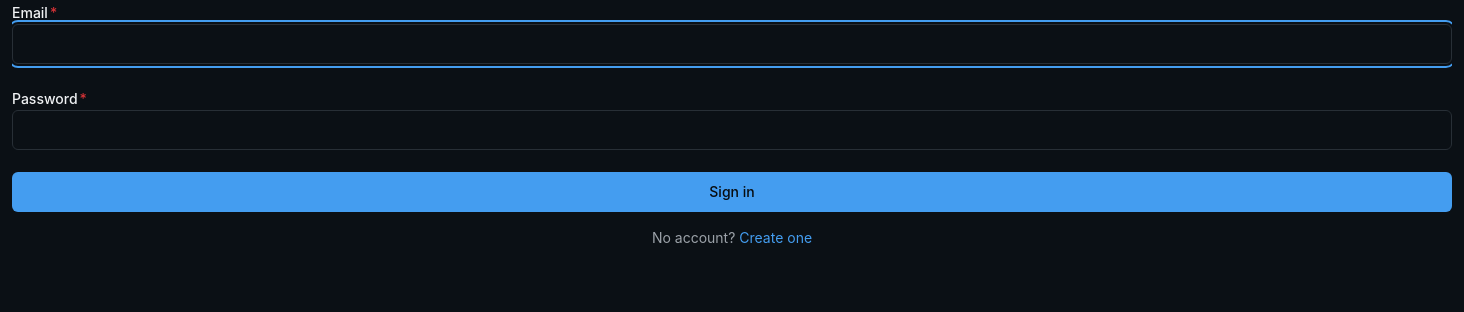
it: LoginForm › surfaces rate limiting rather than looking broken
In the field labelled "Email*": (732, 44) 12,24 -> 1452,64, type "asha@example.com"
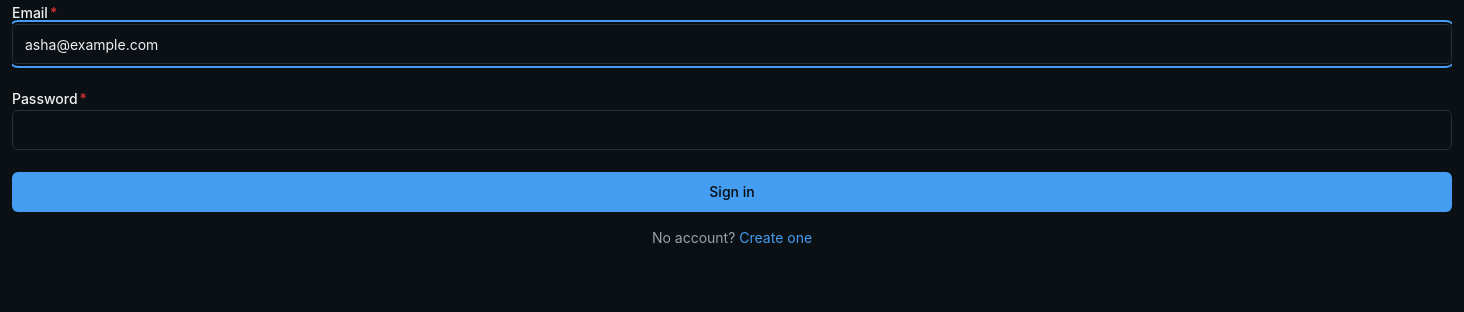
In the password field labelled "Password*": (732, 130) 12,110 -> 1452,150, type "correct horse battery staple"
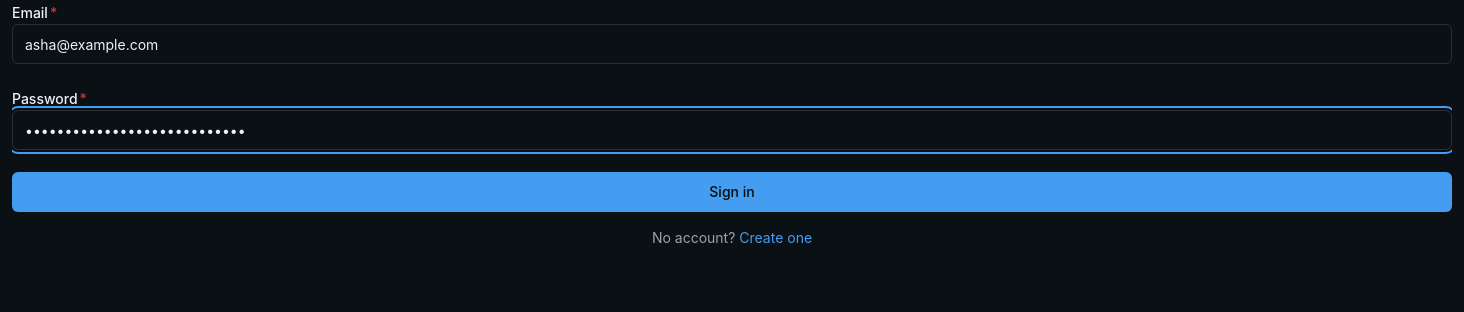
Click the button "Sign in": (732, 192) 12,172 -> 1452,212
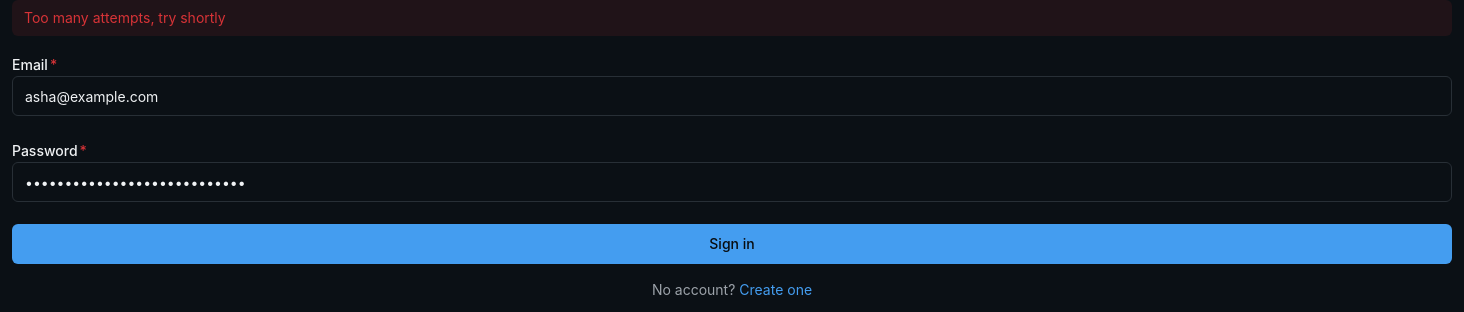
Expected: the message shows "Too many attempts", 24,9 -> 226,26
